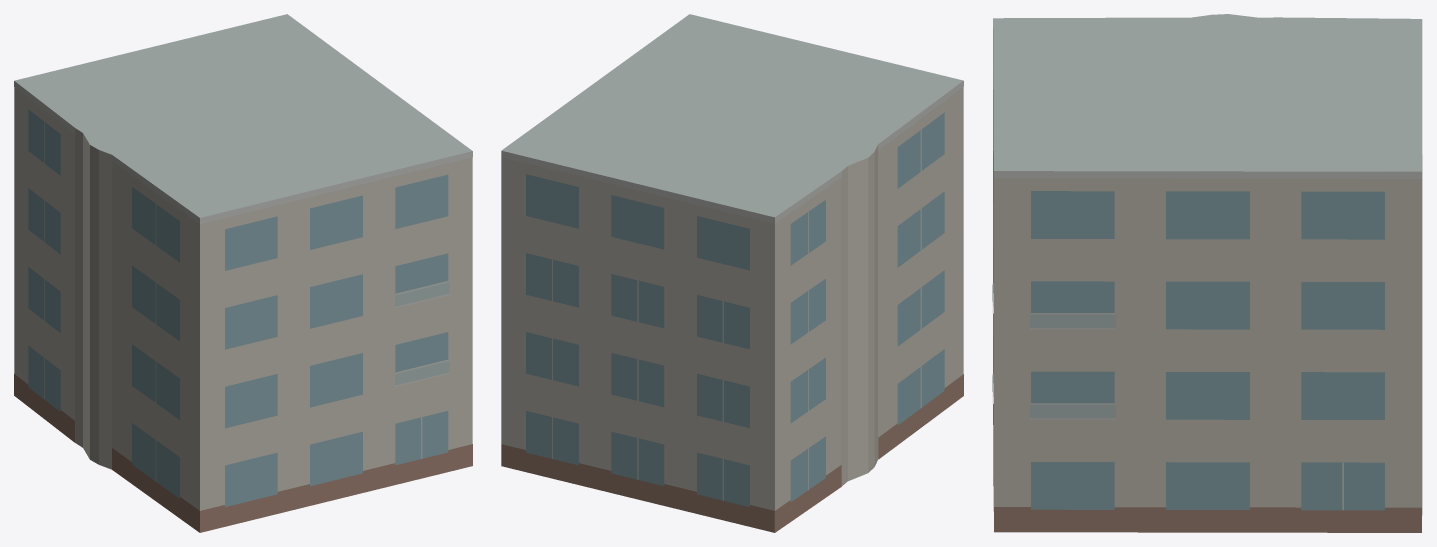
Rendered from survey-upis-32624459.glb.
The picture shows the model from 3 angles, left to right: view 1: azimuth 30°, elevation 25°; view 2: azimuth 150°, elevation 25°; view 3: azimuth 270°, elevation 25°; orthographic projection. The views are drawn at different scales.
Parts seen in each view (by area): view 1: survey-upis-32624459.tmp; view 2: survey-upis-32624459.tmp; view 3: survey-upis-32624459.tmp.
Part boxes in pixels (x1,y1,x2,y2): survey-upis-32624459.tmp: (14, 14, 472, 532); survey-upis-32624459.tmp: (501, 14, 963, 532); survey-upis-32624459.tmp: (992, 14, 1422, 532).
Size of the model in its own units: 11.53 by 12.3 by 13.28.
